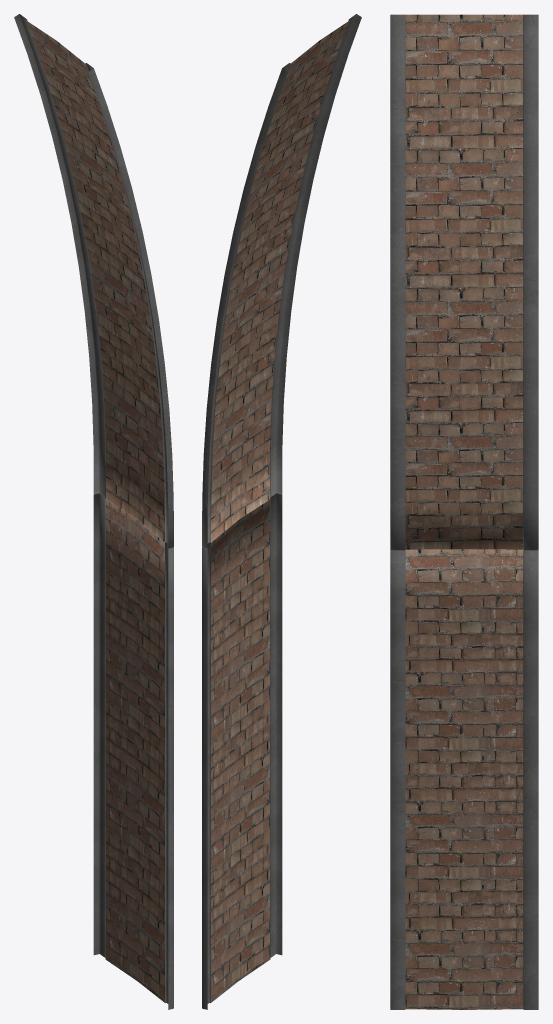
File: cP_Pathway01_CurveUpStraight.dae
3 views of the same model, side by side, from view 1: azimuth 30°, elevation 25°; view 2: azimuth 150°, elevation 25°; view 3: azimuth 270°, elevation 25° (orthographic).
Visible parts, largest first — view 1: cP_Pathway01_CurveUpStraight.001; view 2: cP_Pathway01_CurveUpStraight.001; view 3: cP_Pathway01_CurveUpStraight.001.
Boxes of the visible parts, left/top/right/bottom form: cP_Pathway01_CurveUpStraight.001: left=14, top=14, right=173, bottom=1009; cP_Pathway01_CurveUpStraight.001: left=202, top=14, right=361, bottom=1009; cP_Pathway01_CurveUpStraight.001: left=390, top=14, right=538, bottom=1009.
Size of the model in its own units: 1.3 by 1.95 by 13.87.
